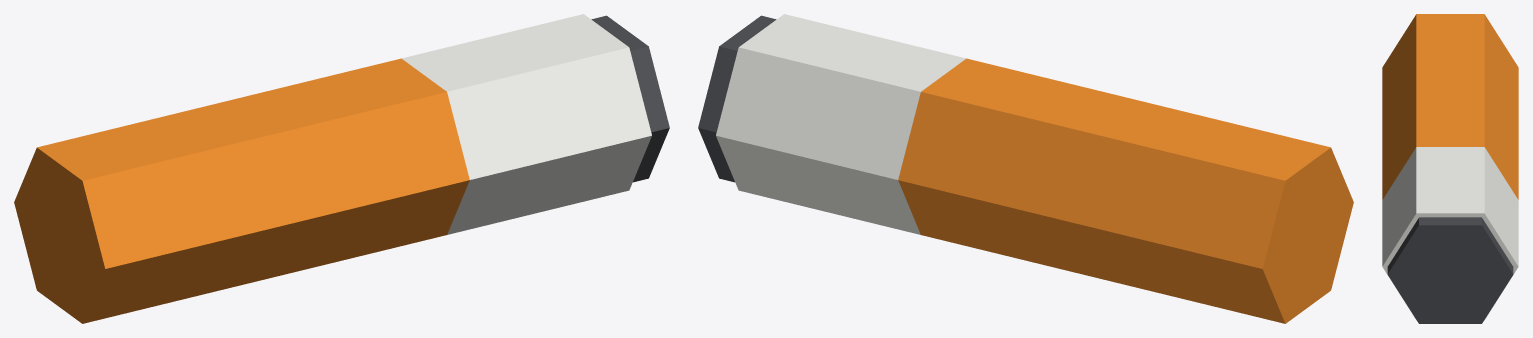
File: Trash_CigaretteButt.fbx
3 views of the same model, side by side, from view 1: azimuth 30°, elevation 25°; view 2: azimuth 150°, elevation 25°; view 3: azimuth 270°, elevation 25° (orthographic). The views are drawn at different scales.
Visible parts, largest first — view 1: Trash_CigaretteButt; view 2: Trash_CigaretteButt; view 3: Trash_CigaretteButt.
Part boxes in pixels (x1,y1,x2,y2): Trash_CigaretteButt: (14, 14, 669, 323); Trash_CigaretteButt: (698, 14, 1353, 323); Trash_CigaretteButt: (1382, 14, 1518, 323).
Size of the model in its own units: 0.0935 by 0.0225 by 0.026.
